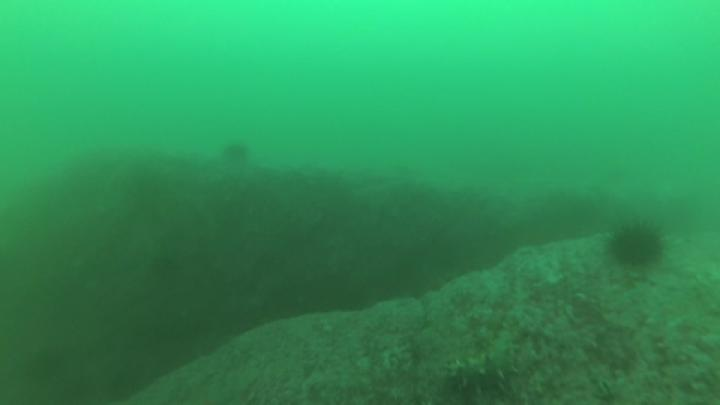echinus: (611, 226, 666, 268), (224, 146, 247, 165)
holothurian: (452, 332, 516, 393)
